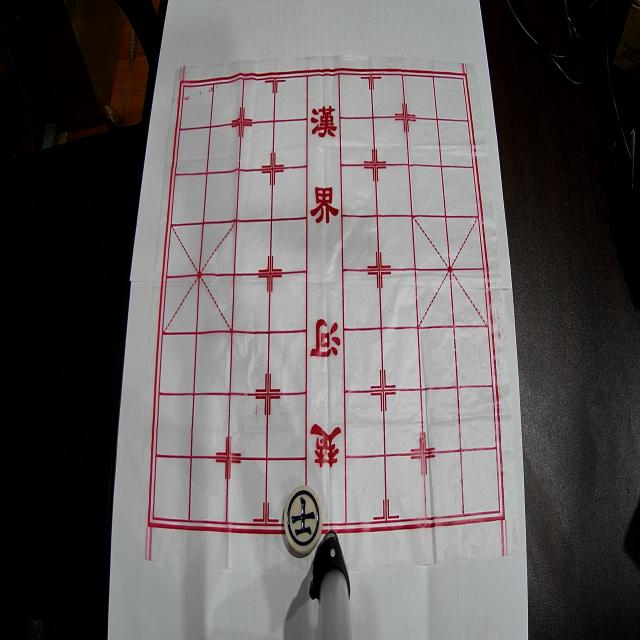black-guard: (284, 486, 323, 554)
